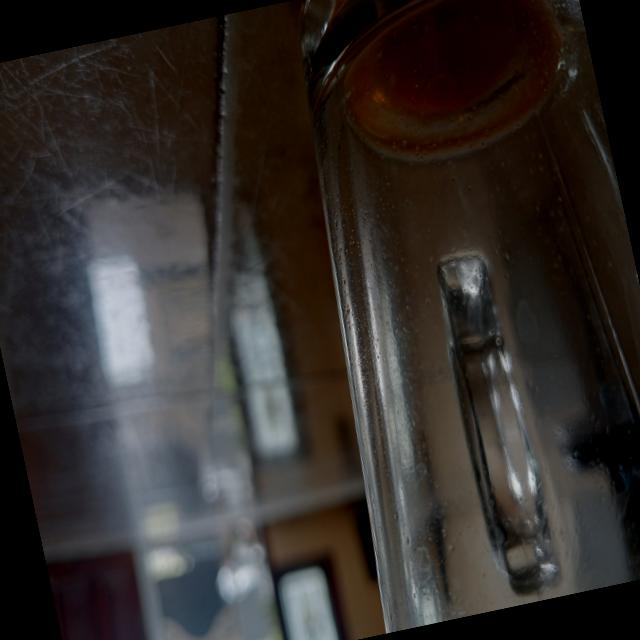glass-VX4N: (248, 0, 640, 634)
